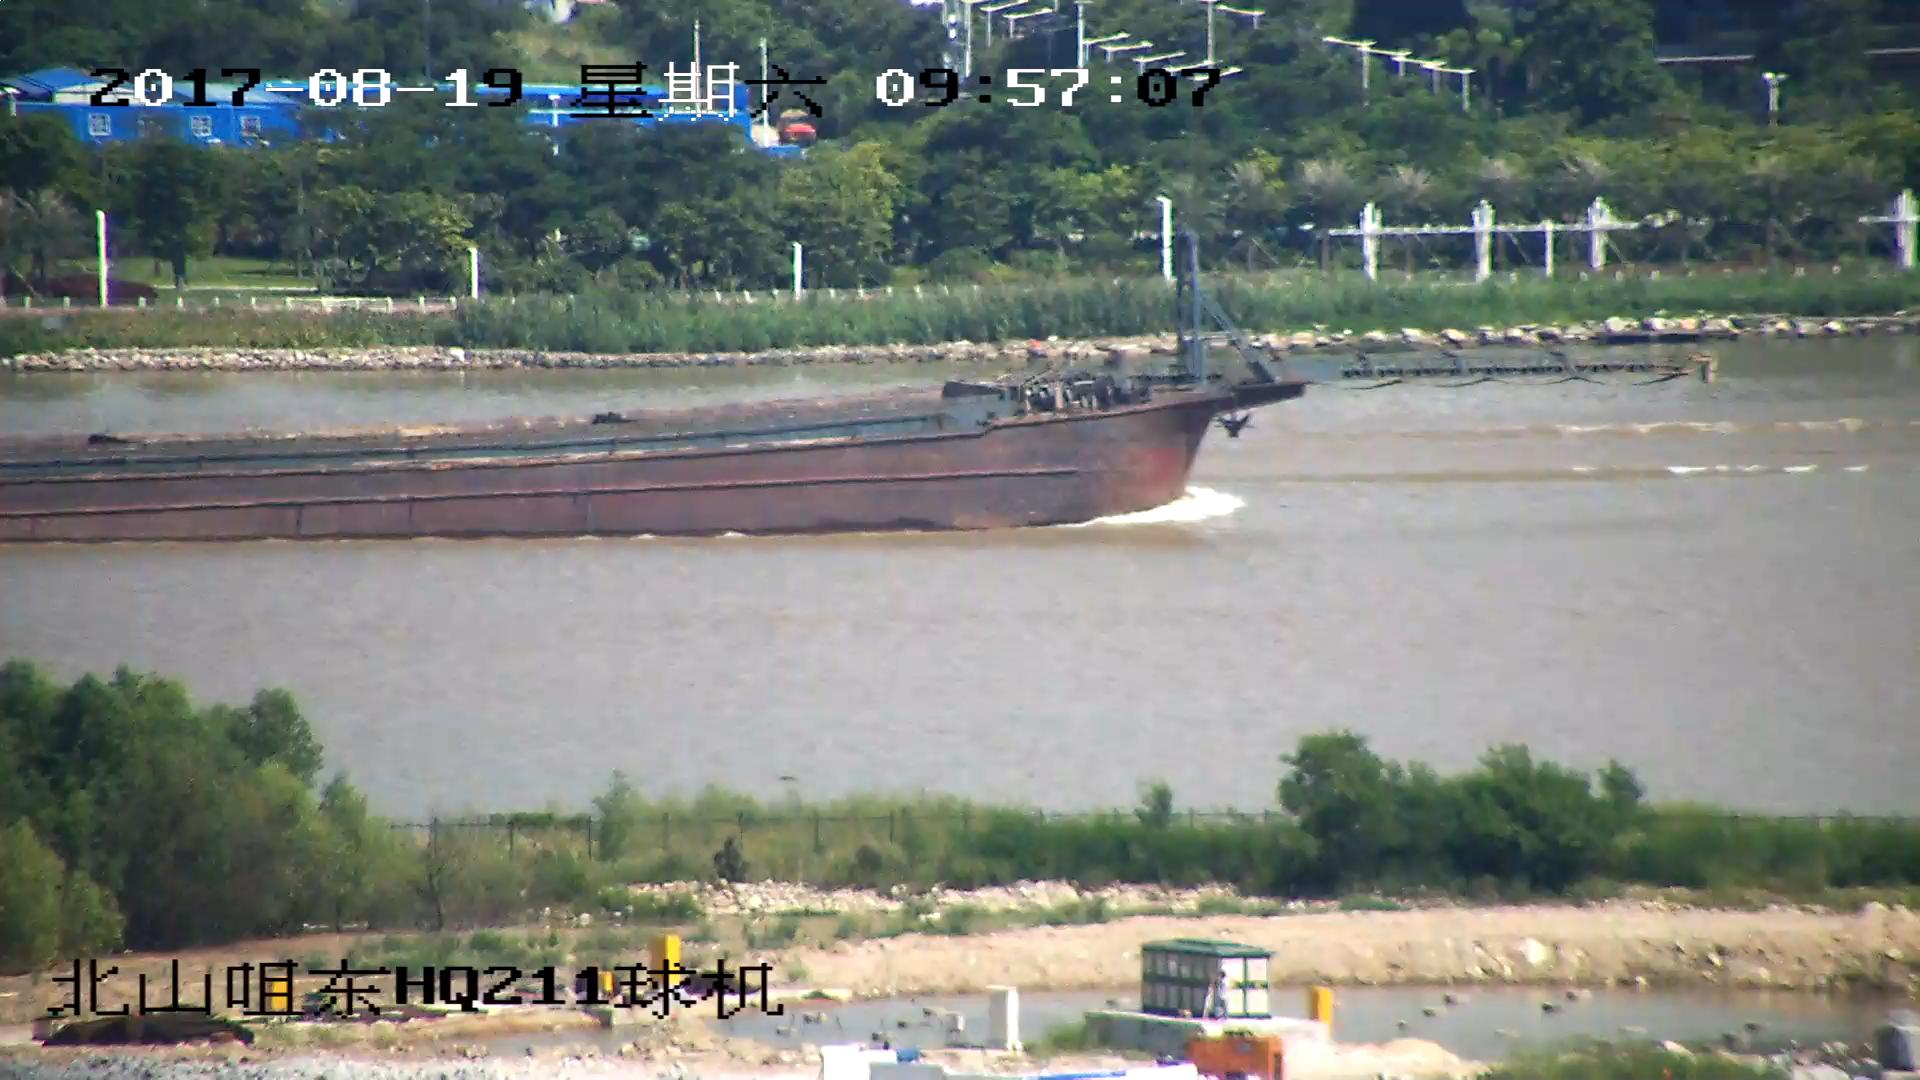bulk cargo carrier: (1, 239, 1704, 548)
